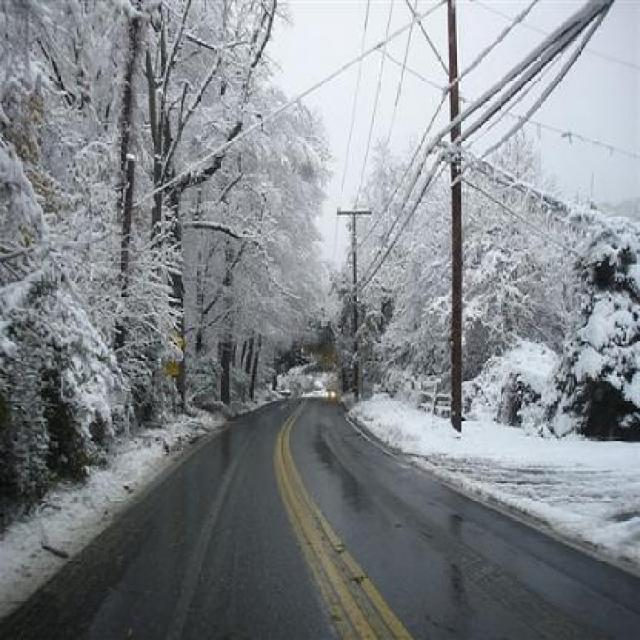pole: (428, 5, 470, 432), (344, 190, 374, 404)
